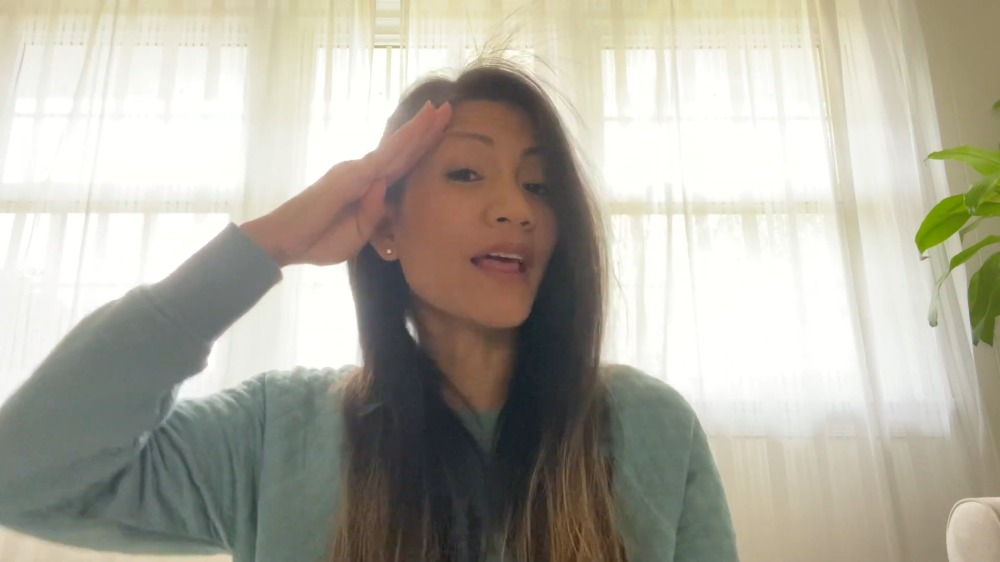hello: (293, 100, 456, 258)
